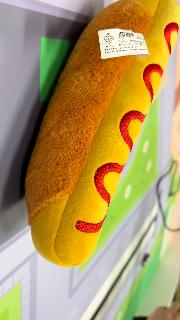hotdog: (23, 1, 178, 269)
